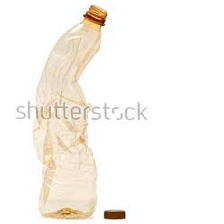bottle: (24, 4, 114, 220)
